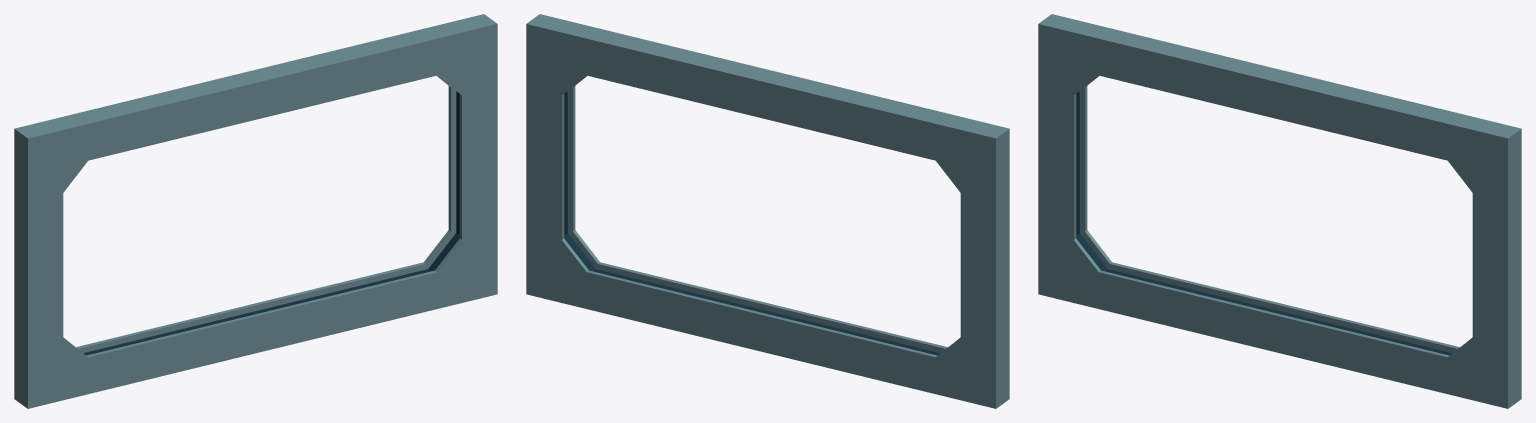
File: W1_WallWindow1B_4m.fbx
The picture shows the model from 3 angles, left to right: view 1: azimuth 30°, elevation 25°; view 2: azimuth 150°, elevation 25°; view 3: azimuth 330°, elevation 25°; orthographic projection.
Parts seen in each view (by area): view 1: W1_WallWindow1B_4m.001; view 2: W1_WallWindow1B_4m.001; view 3: W1_WallWindow1B_4m.001.
Boxes of the visible parts, box(x1,y1,x2,y2) form: W1_WallWindow1B_4m.001: box(14, 14, 497, 408); W1_WallWindow1B_4m.001: box(526, 14, 1009, 408); W1_WallWindow1B_4m.001: box(1038, 14, 1521, 408).
Bounding box in the file's own units: 4 × 2.2 × 0.2.
